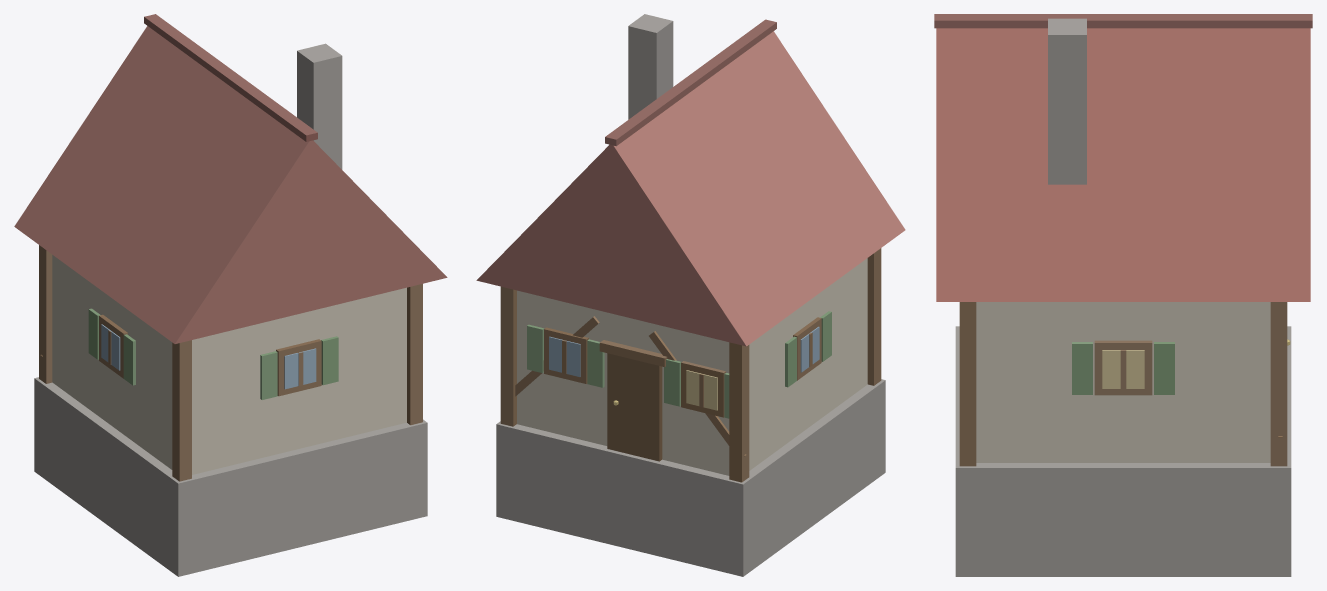
Rendered from house_small.glb.
3 views of the same model, side by side, from view 1: azimuth 30°, elevation 25°; view 2: azimuth 150°, elevation 25°; view 3: azimuth 270°, elevation 25° (orthographic). The views are drawn at different scales.
Visible parts, largest first — view 1: house_small2; view 2: house_small2; view 3: house_small2.
Part boxes in pixels (bbox=[...]): house_small2: bbox=[14, 14, 447, 576]; house_small2: bbox=[476, 14, 905, 576]; house_small2: bbox=[934, 14, 1312, 576].
Size of the model in its own units: 5.2 by 8.05 by 5.35.
